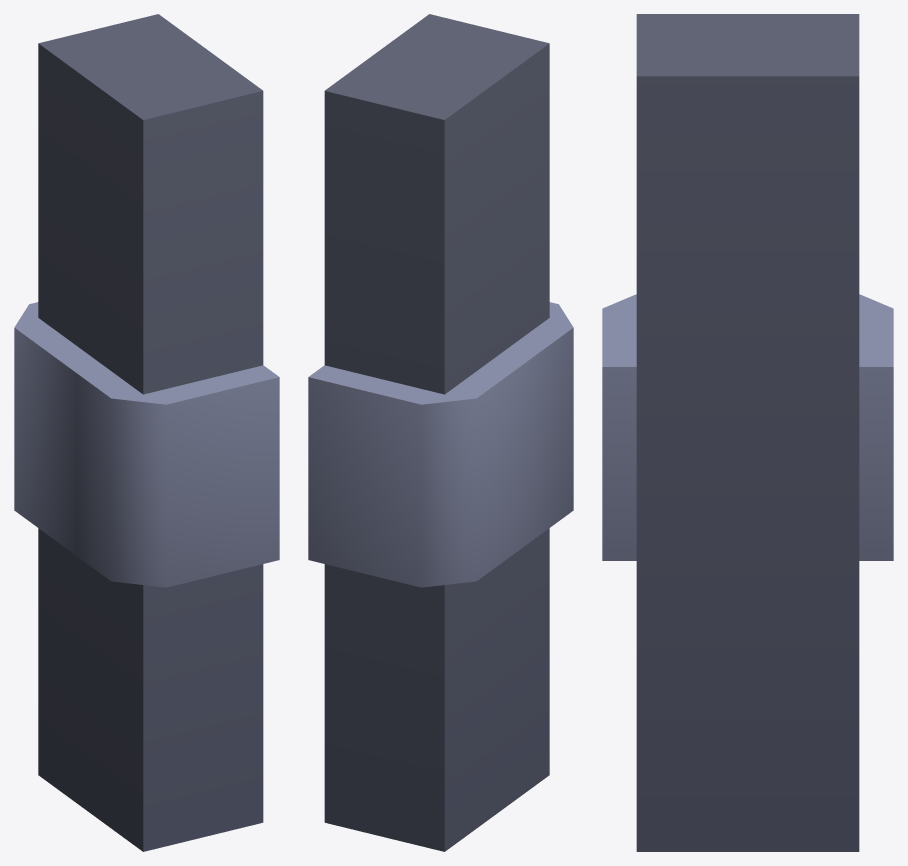
File: chimney.glb
3 renders of one model, left to right at view 1: azimuth 30°, elevation 25°; view 2: azimuth 150°, elevation 25°; view 3: azimuth 270°, elevation 25°, orthographic. The views are drawn at different scales.
Parts seen in each view (by area): view 1: chimney; view 2: chimney; view 3: chimney.
Part boxes in pixels (x1,y1,x2,y2): chimney: [14, 14, 279, 851]; chimney: [308, 14, 573, 851]; chimney: [602, 14, 893, 851].
Size of the model in its own units: 0.2119 by 1 by 0.34.
